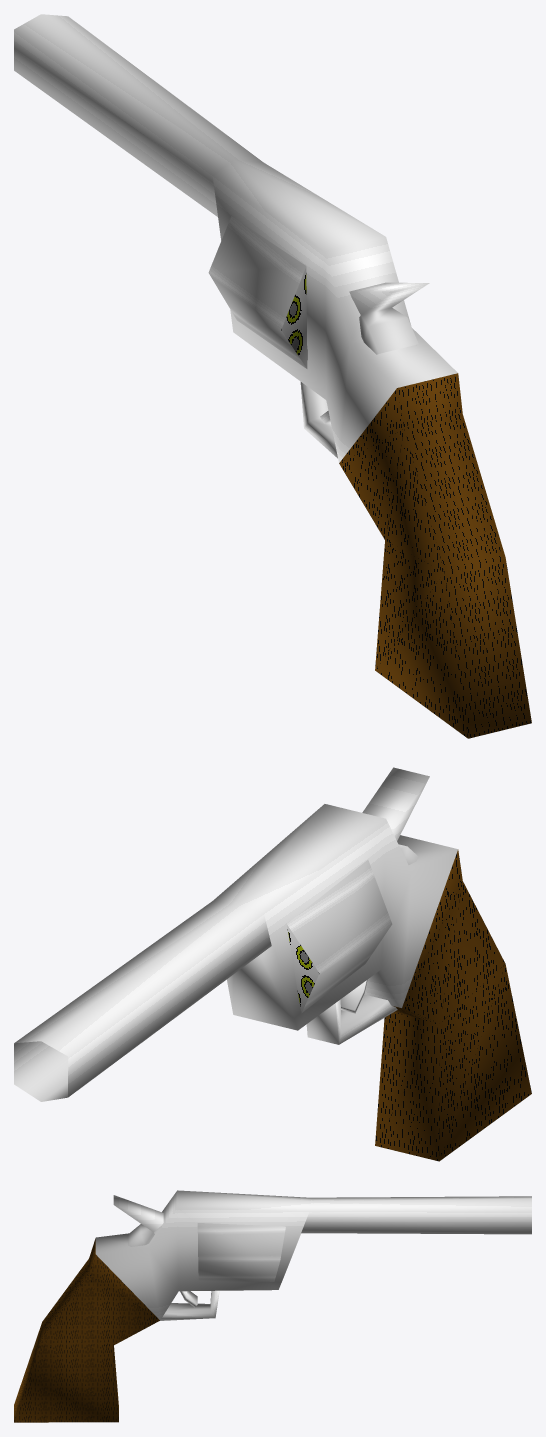
Rendered from Revolver.obj.
The picture shows the model from 3 angles, top to bottom: view 1: azimuth 30°, elevation 25°; view 2: azimuth 150°, elevation 25°; view 3: azimuth 270°, elevation 25°; orthographic projection. The views are drawn at different scales.
Parts seen in each view (by area): view 1: Cube.001; view 2: Cube.001; view 3: Cube.001.
Boxes of the visible parts, bbox=[...] form: Cube.001: bbox=[14, 14, 531, 738]; Cube.001: bbox=[14, 767, 531, 1161]; Cube.001: bbox=[14, 1190, 531, 1422].
Size of the model in its own units: 0.397 by 1.3 by 2.84.
Materials: 3 (3 with a texture image).
